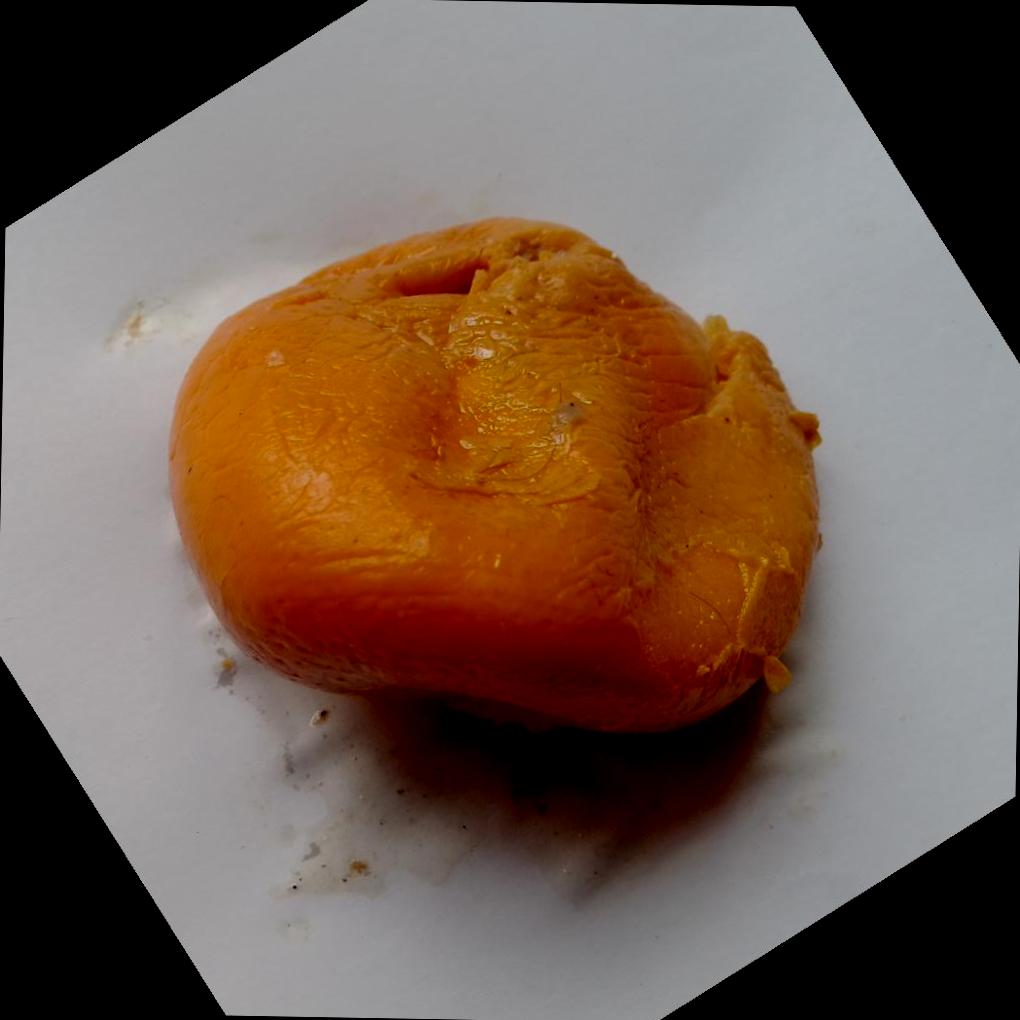FreshOrange: (170, 214, 826, 735)
